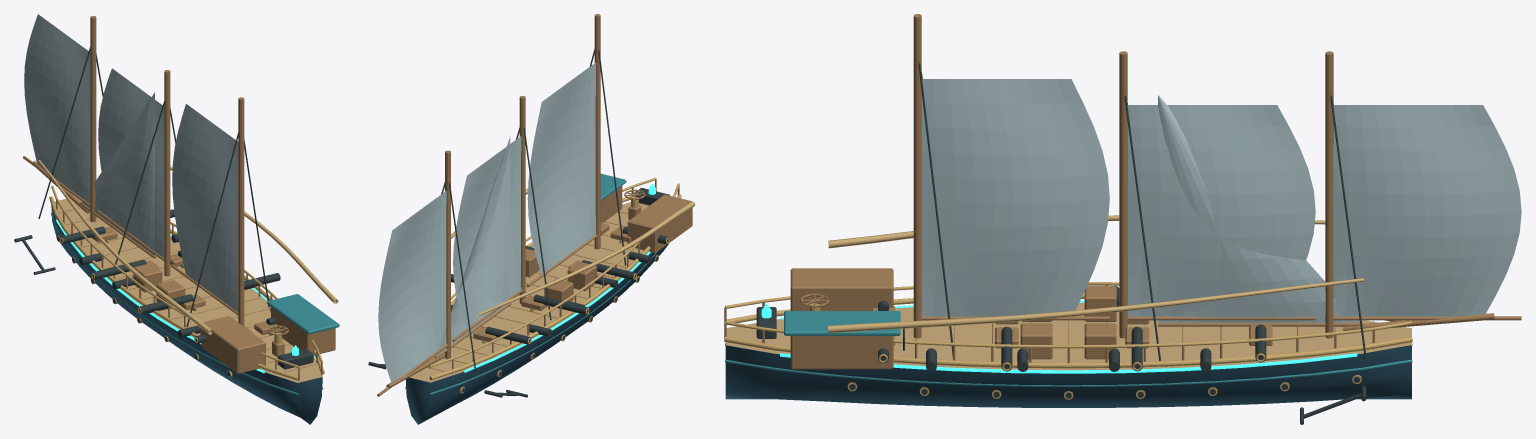
File: premium_ghost_frigate.glb
The picture shows the model from 3 angles, left to right: view 1: azimuth 30°, elevation 25°; view 2: azimuth 150°, elevation 25°; view 3: azimuth 270°, elevation 25°; orthographic projection. The views are drawn at different scales.
Visible parts, largest first — view 1: premium_ghost_frigate; view 2: premium_ghost_frigate; view 3: premium_ghost_frigate.
Boxes of the visible parts, x1,y1,x2,y2 form: premium_ghost_frigate: (14, 14, 339, 424); premium_ghost_frigate: (368, 14, 695, 424); premium_ghost_frigate: (724, 14, 1521, 424).
Size of the model in its own units: 5.06 by 9.25 by 17.43.
